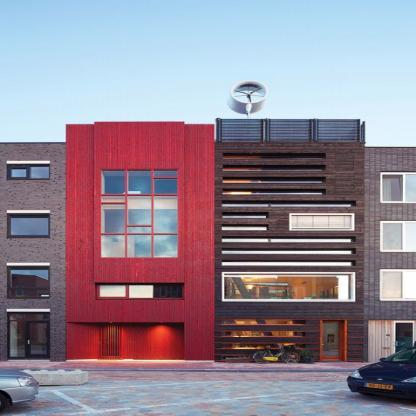Balcony: (216, 118, 367, 142)
Building Outline: (65, 80, 367, 363)
Deco: (227, 80, 269, 118)
Door: (321, 320, 343, 360), (100, 325, 121, 358)
Facade: (66, 80, 368, 363)
Floor Slab: (66, 308, 215, 318), (66, 199, 215, 209), (66, 258, 215, 268)
Glass Wall: (102, 170, 177, 257)
Window: (224, 274, 351, 300), (99, 284, 184, 298), (291, 215, 352, 229), (222, 250, 353, 254), (222, 262, 353, 266), (222, 343, 304, 348), (222, 155, 323, 159), (222, 167, 323, 171), (222, 191, 323, 195), (222, 239, 353, 242), (222, 203, 353, 206), (222, 356, 304, 360), (222, 332, 304, 336), (222, 320, 304, 324), (222, 179, 323, 182), (221, 214, 267, 218), (221, 227, 267, 230)
